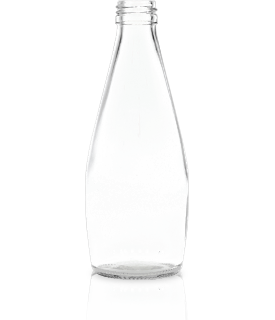glass_bottle: (85, 1, 190, 283)
